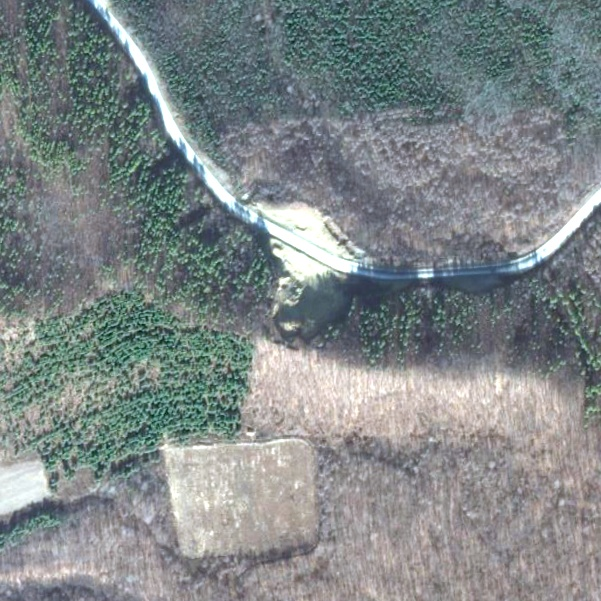slope: (255, 197, 376, 261), (265, 238, 344, 334)
